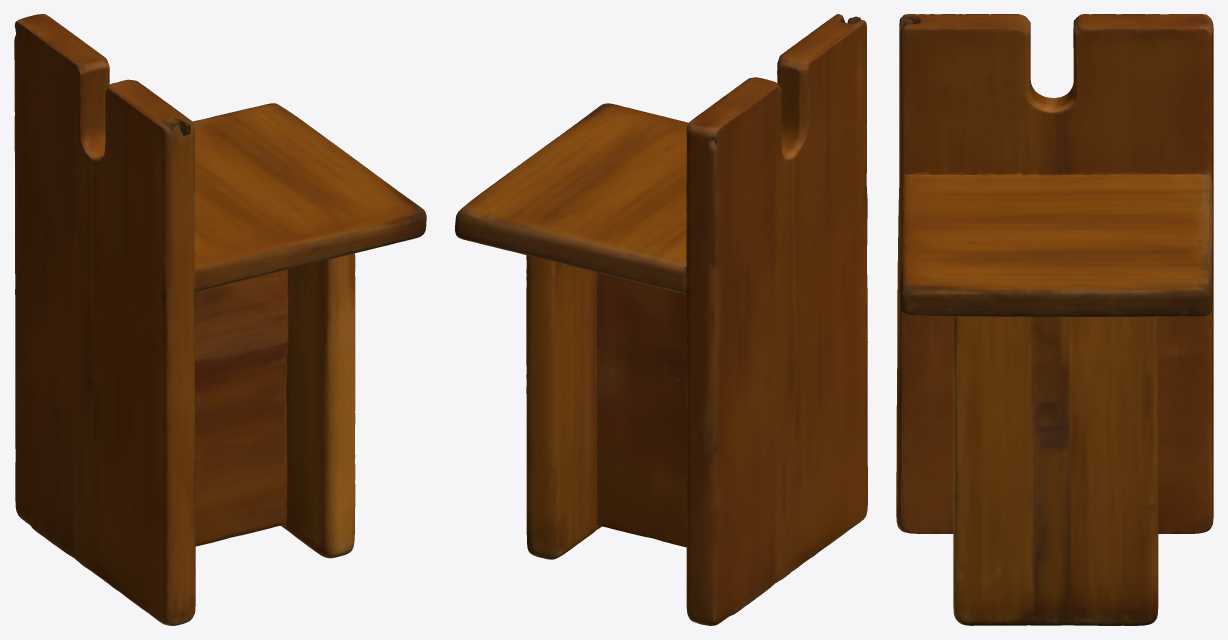
Rendered from Rustic Slab Wood Chair with Cutout Backrest [gUS0Mt].glb.
3 views of the same model, side by side, from view 1: azimuth 30°, elevation 25°; view 2: azimuth 150°, elevation 25°; view 3: azimuth 270°, elevation 25° (orthographic).
Parts seen in each view (by area): view 1: world; view 2: world; view 3: world.
Part boxes in pixels (bbox=[...]): world: bbox=[14, 14, 426, 625]; world: bbox=[455, 14, 867, 625]; world: bbox=[896, 14, 1213, 625].
Size of the model in its own units: 0.553 by 1 by 0.5669.
Materials: 1 (1 with a texture image).
